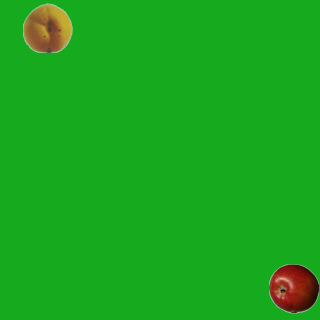Apple Braeburn: (268, 263, 318, 313)
Peach 2: (22, 2, 72, 52)
